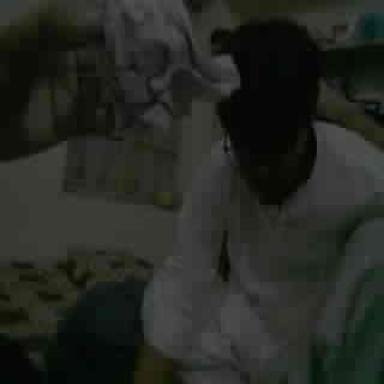paper: (96, 0, 236, 136)
